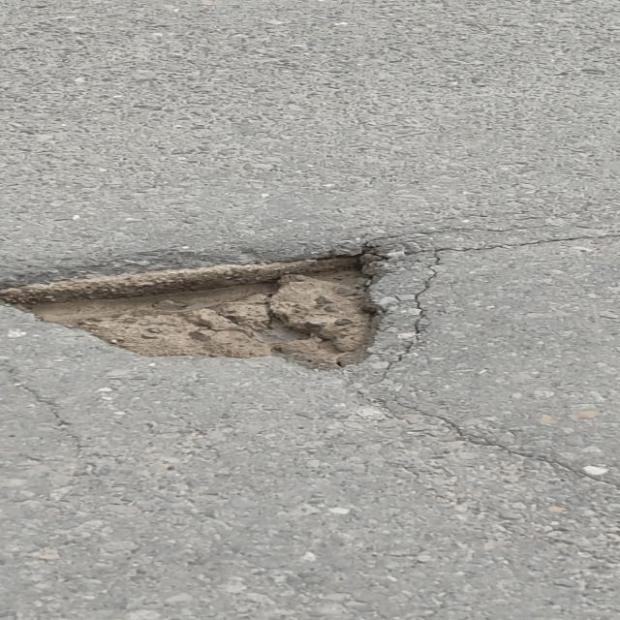lubang: (0, 244, 402, 367)
